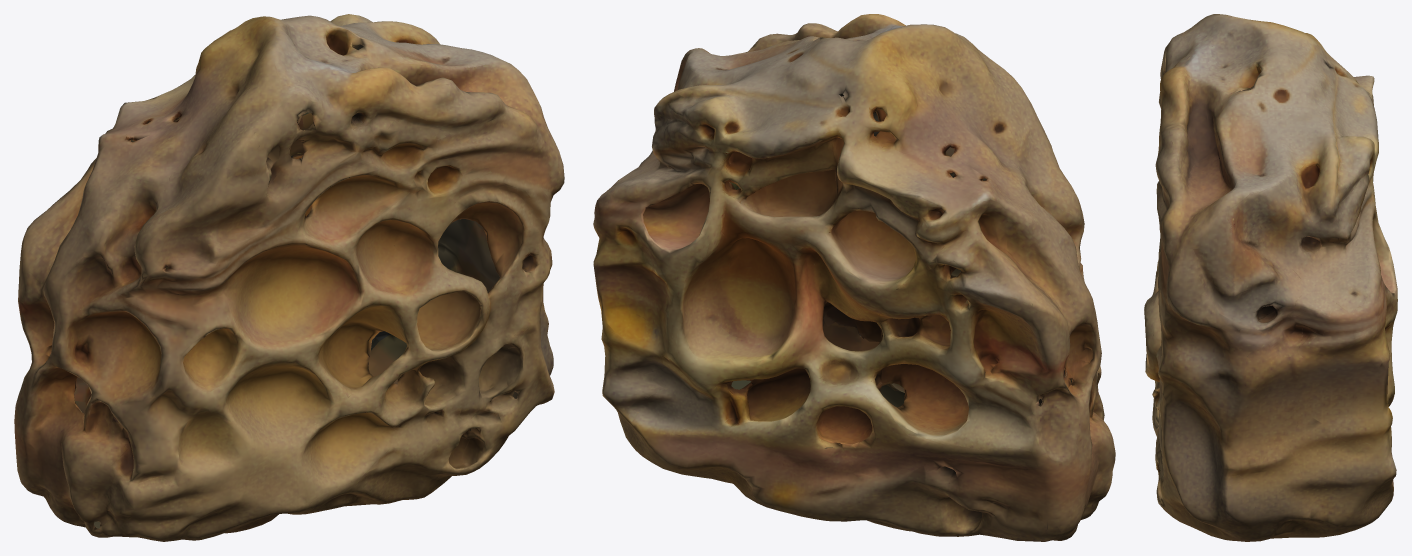
3 renders of one model, left to right at view 1: azimuth 30°, elevation 25°; view 2: azimuth 150°, elevation 25°; view 3: azimuth 270°, elevation 25°, orthographic. The views are drawn at different scales.
Visible parts, largest first — view 1: world; view 2: world; view 3: world.
Part boxes in pixels (<box>): world: <box>14,14,564,541</box>; world: <box>593,14,1115,541</box>; world: <box>1144,14,1397,541</box>.
Size of the model in its own units: 0.24 by 0.2303 by 0.1145.
1 material, 1 textured.
